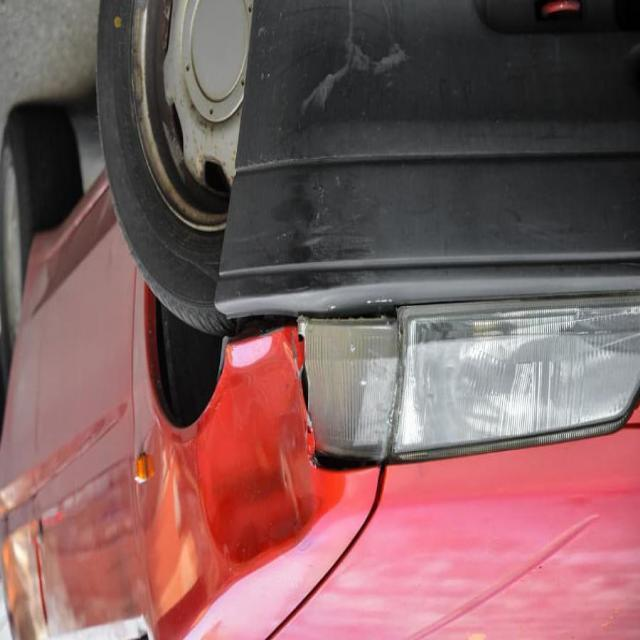dent: (170, 282, 383, 562)
